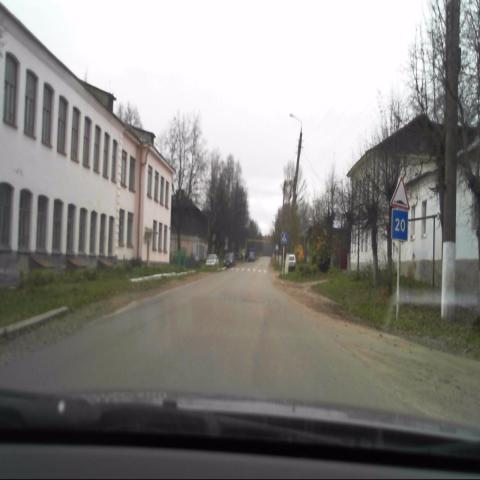6_2: (392, 209, 408, 242)
